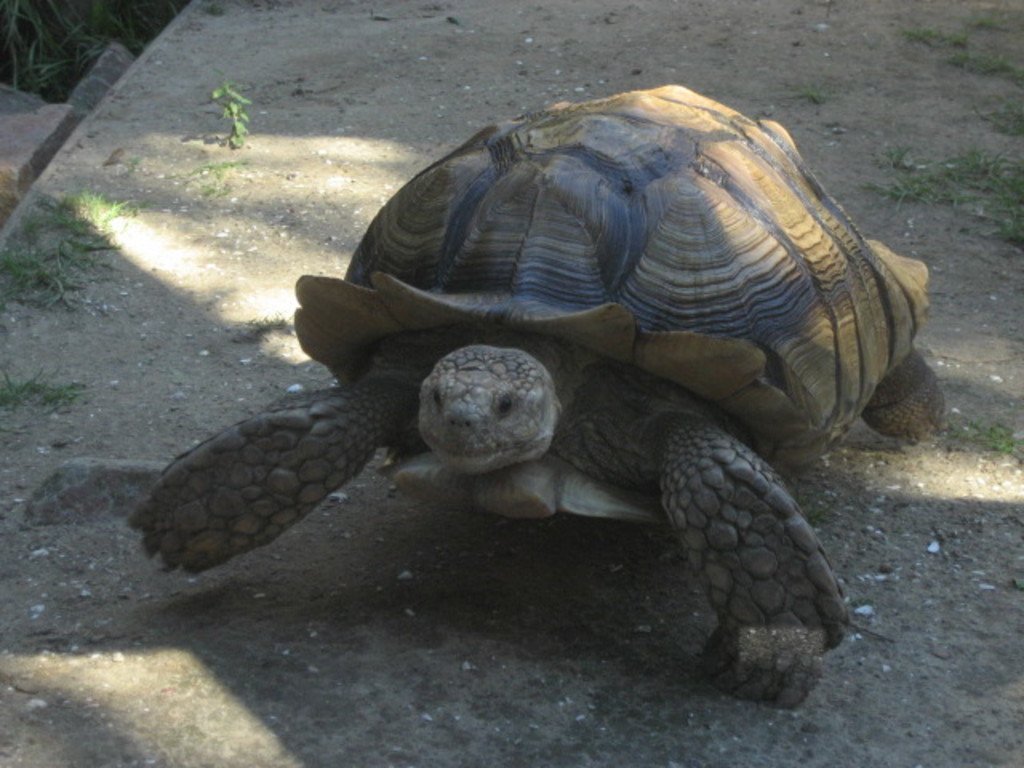Sea turtles: (125, 83, 945, 710)
